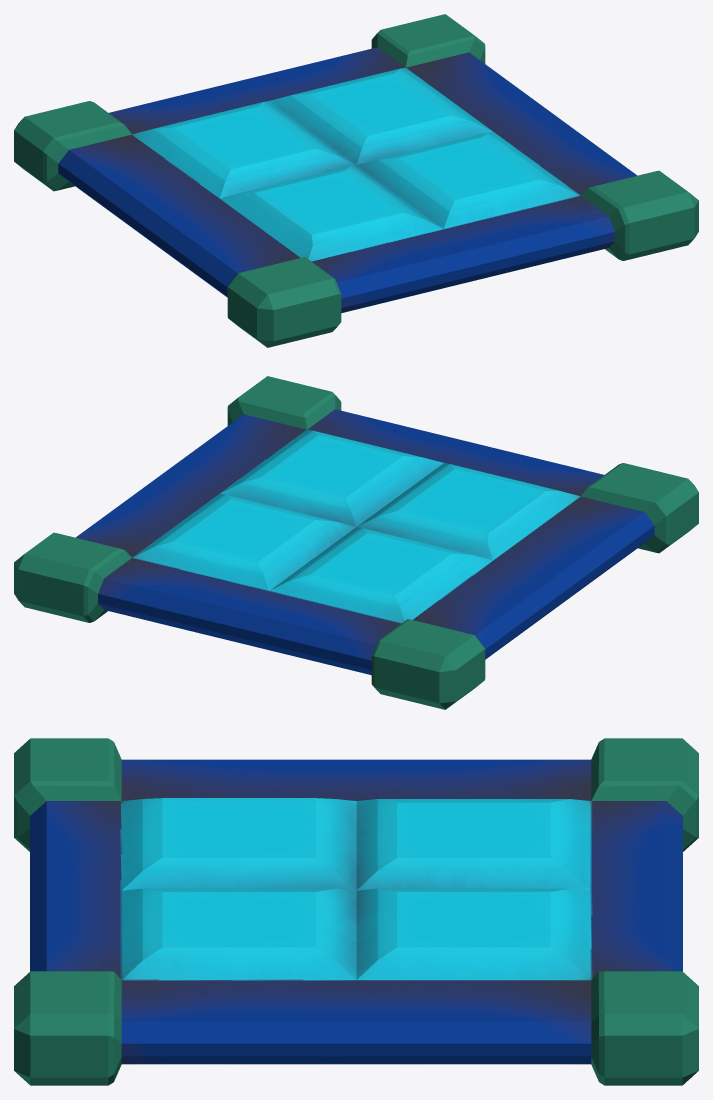
The model's file is SM_Props_46.fbx.
The picture shows the model from 3 angles, top to bottom: view 1: azimuth 30°, elevation 25°; view 2: azimuth 150°, elevation 25°; view 3: azimuth 270°, elevation 25°; orthographic projection. The views are drawn at different scales.
Parts seen in each view (by area): view 1: SM_Props_46; view 2: SM_Props_46; view 3: SM_Props_46.
Boxes of the visible parts, x1=… form: SM_Props_46: x1=14, y1=14, x2=698, y2=347; SM_Props_46: x1=14, y1=376, x2=698, y2=709; SM_Props_46: x1=14, y1=738, x2=698, y2=1085.
Bounding box in the file's own units: 111 × 111 × 13.08.
Materials: 1 (1 with a texture image).
